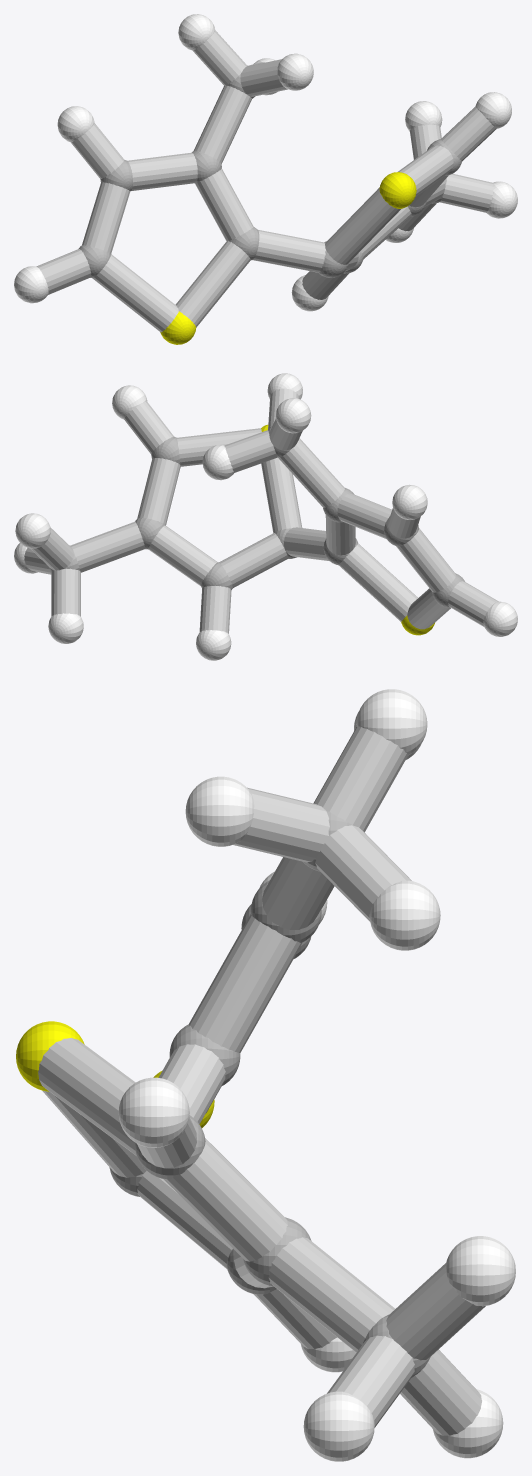
The model's file is Methylthiophene_Phi_50_Theta_70_Methylthiophene.glb.
3 renders of one model, top to bottom at view 1: azimuth 30°, elevation 25°; view 2: azimuth 150°, elevation 25°; view 3: azimuth 270°, elevation 25°, orthographic. The views are drawn at different scales.
Visible parts, largest first — view 1: grp7965, grp3621, grp1, grp7241; view 2: grp7965, grp3621, grp1; view 3: grp7965, grp3621, grp1, grp7241.
Boxes of the visible parts, <box> form: grp7965: <box>36,30,496,332</box>; grp3621: <box>14,14,517,311</box>; grp1: <box>78,65,461,277</box>; grp7241: <box>160,172,416,344</box>; grp7965: <box>24,388,498,633</box>; grp3621: <box>14,373,517,660</box>; grp1: <box>49,426,464,607</box>; grp7965: <box>38,726,485,1435</box>; grp3621: <box>118,689,515,1461</box>; grp1: <box>109,810,430,1377</box>; grp7241: <box>16,1021,214,1127</box>.
Size of the model in its own units: 9.51 by 5.46 by 4.23.
